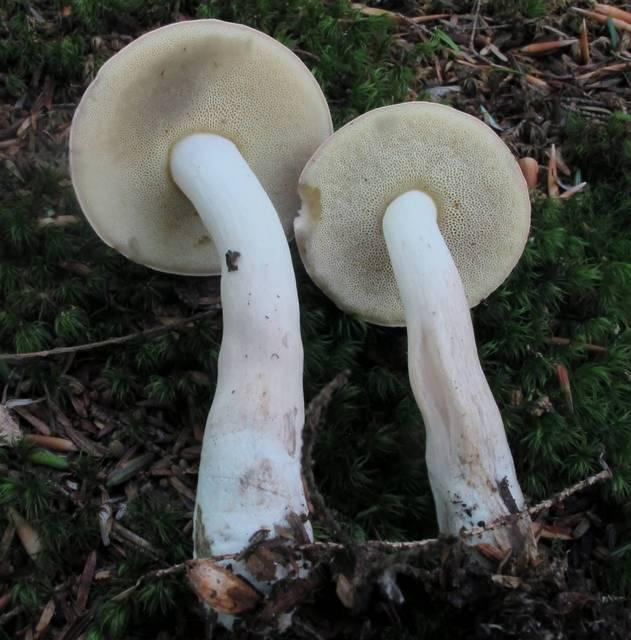Edible Mushroom: (67, 16, 334, 628), (292, 98, 537, 567)
